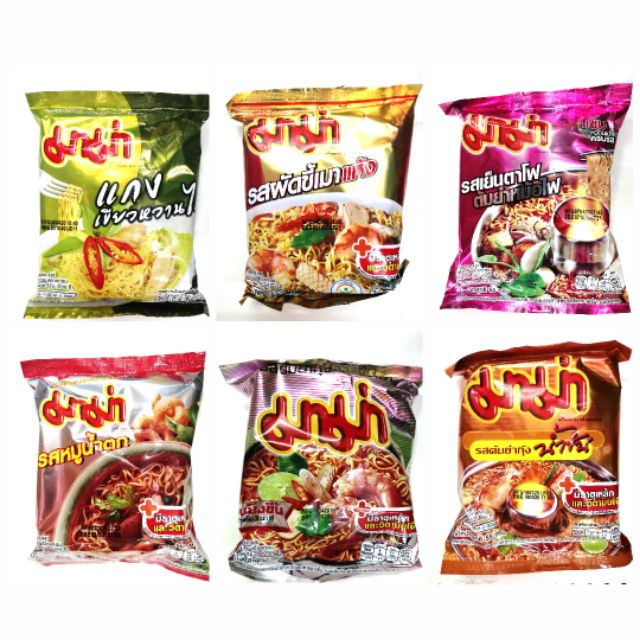Snack: (20, 82, 214, 326)
